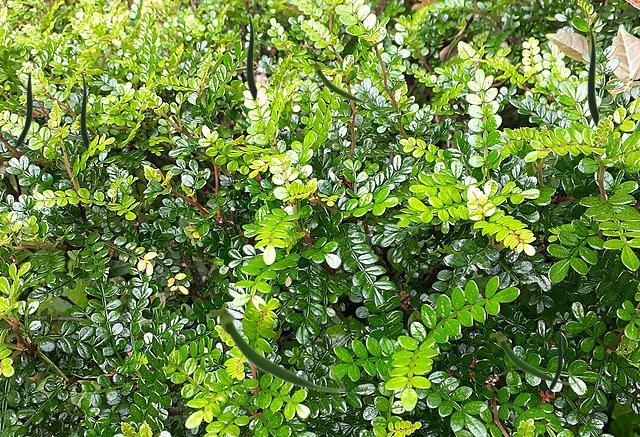french_bean: (207, 306, 345, 392), (489, 330, 576, 384), (308, 61, 376, 103), (12, 72, 31, 148), (587, 28, 598, 126), (546, 328, 561, 391), (246, 15, 256, 100), (80, 74, 88, 150)
